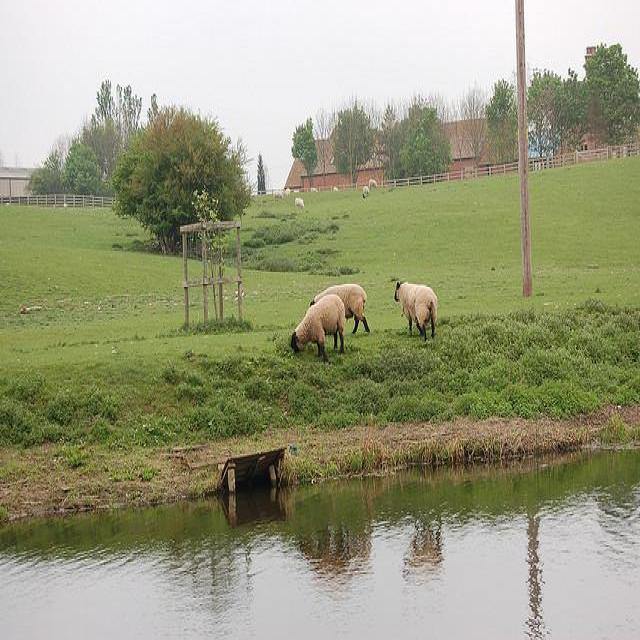Sheep: (292, 299, 347, 367), (309, 284, 372, 333), (394, 282, 438, 342)
